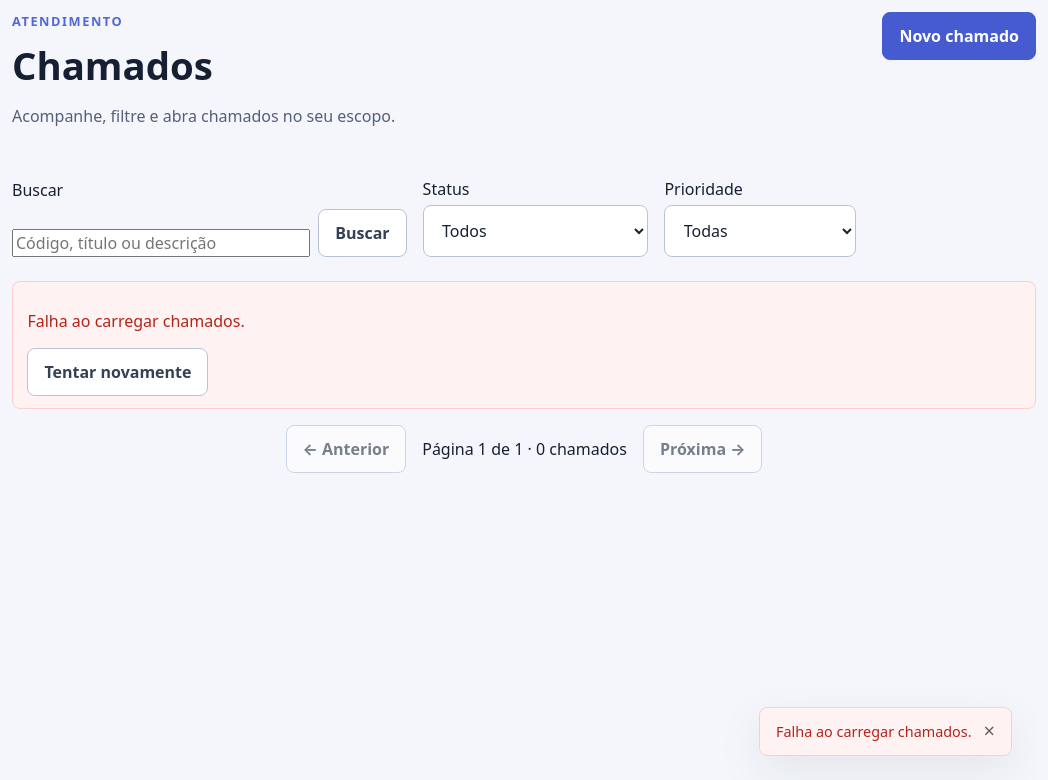
Test case: TicketsPage: listagem integrada › mostra erro com botao de retentativa e dispara toast
Expected: the message "Falha ao carregar chamados. Tentar novamente" is shown, [12,281,1036,409]
Click the button "Tentar novamente" at (118, 372), box [27,348,208,396]
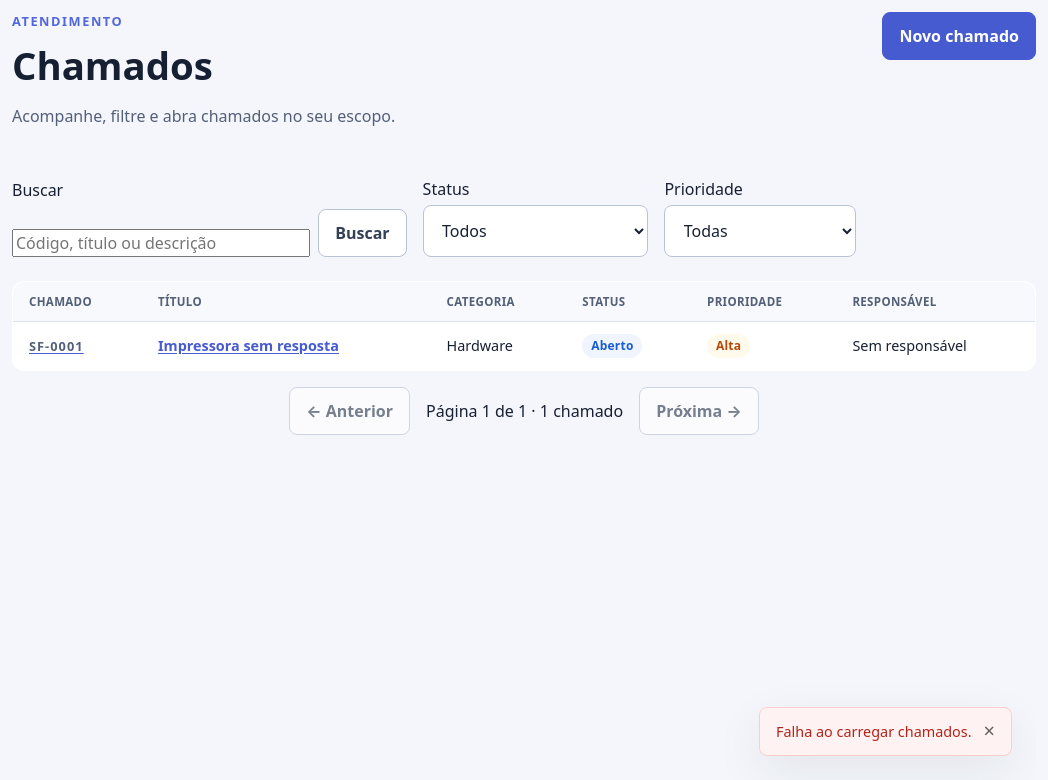
Expected: the table is shown, [12,281,1036,371]
